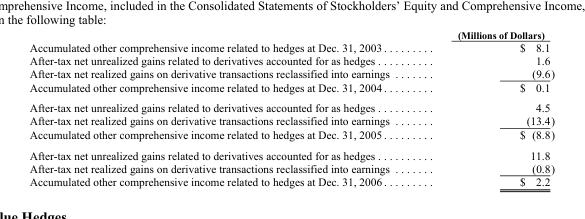table: (28, 28, 554, 187)
table column: (28, 28, 422, 187), (422, 28, 554, 187)
table column header: (28, 28, 554, 40)
table row: (28, 79, 554, 97), (28, 97, 554, 114), (28, 127, 554, 144), (28, 144, 554, 161), (28, 40, 554, 53), (28, 53, 554, 66), (28, 66, 554, 79), (28, 114, 554, 127), (28, 161, 554, 174), (28, 174, 554, 187), (28, 28, 554, 40)
